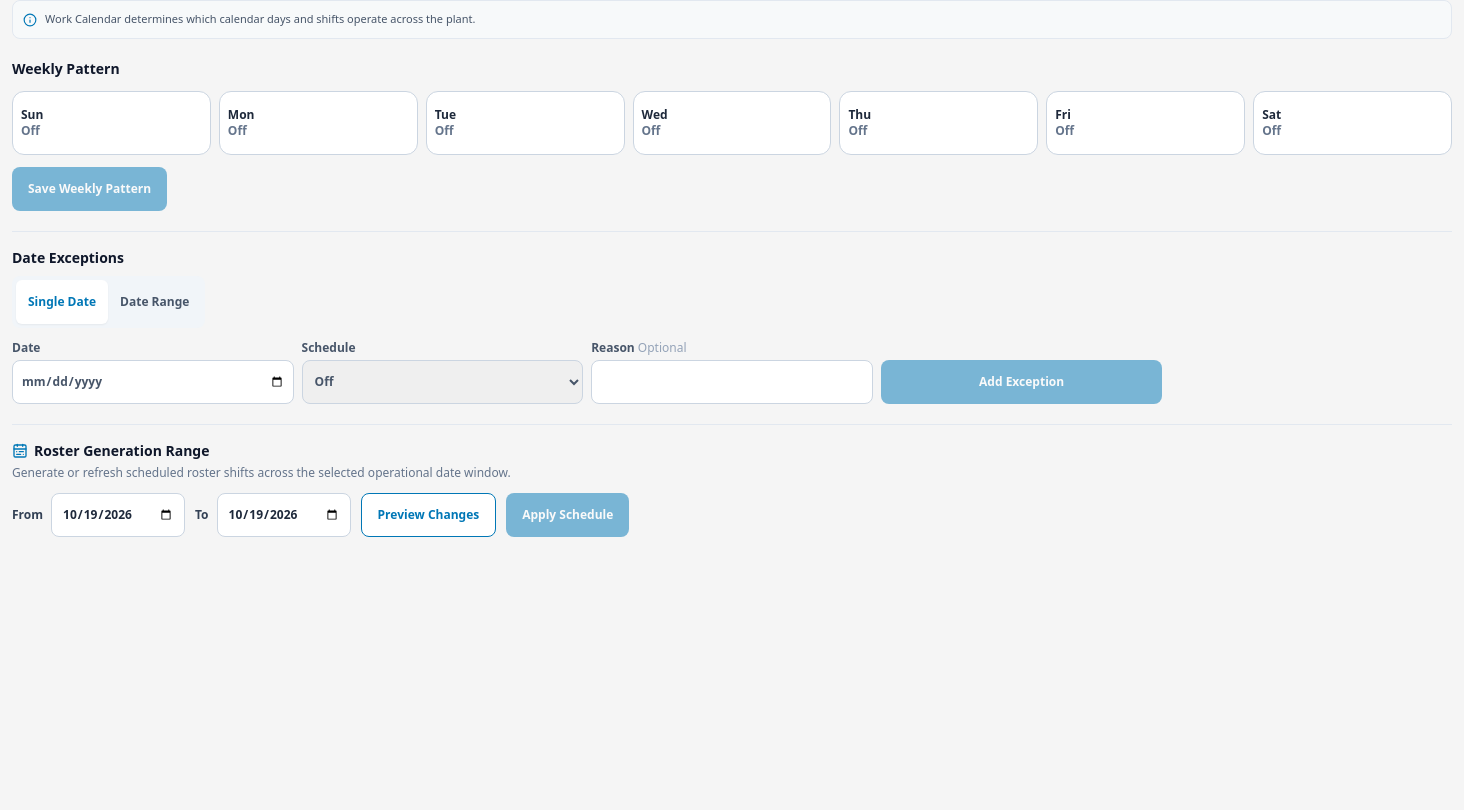
ScheduleCard › invalidates preview when the generation range changes
Click the button "Preview Changes" at (428, 514), box x1=361 y1=492 x2=496 y2=536
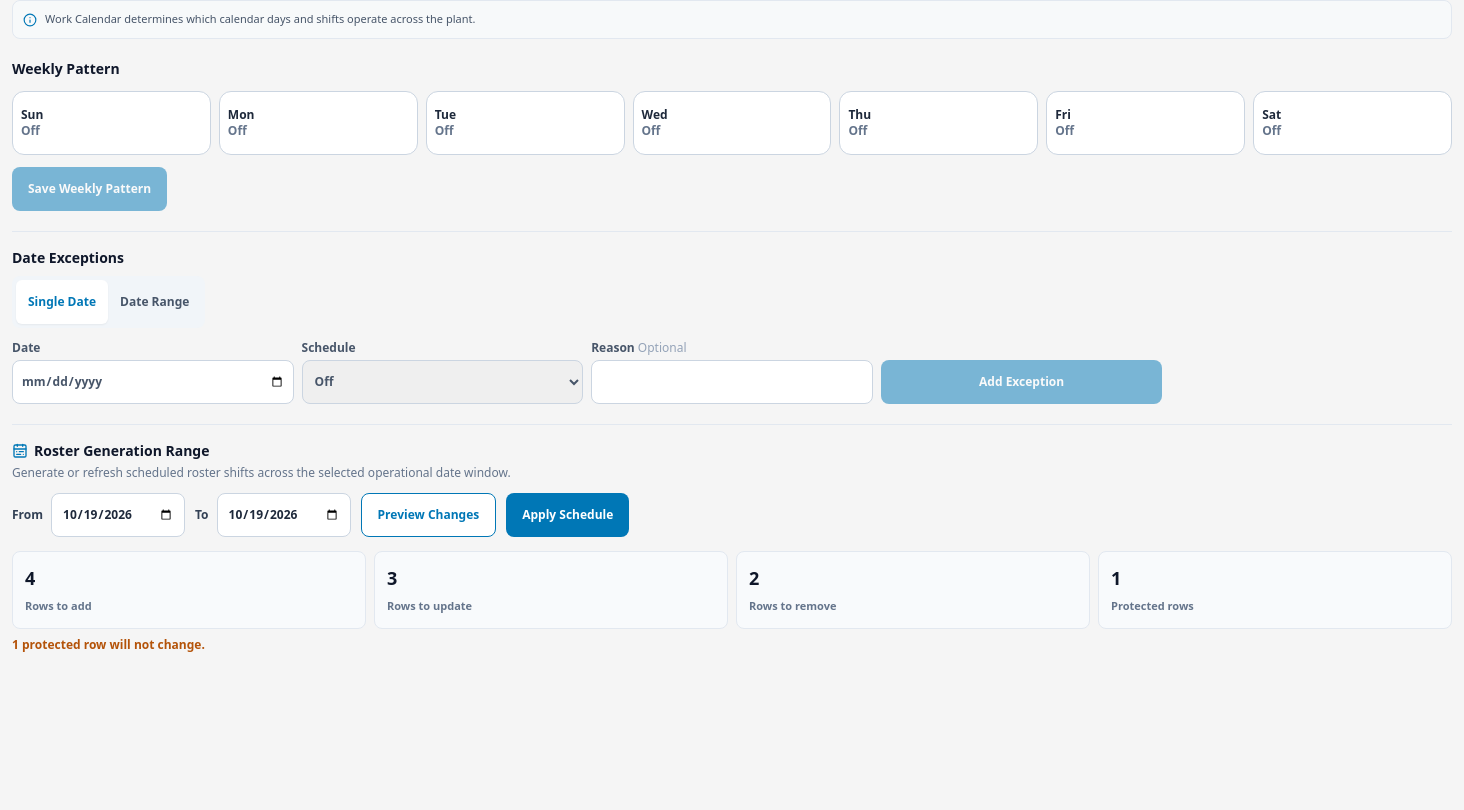
Result: the button "Apply Schedule" is enabled at x1=506 y1=492 x2=629 y2=536
Type "2030-01-01" into the date field labelled "To" at (284, 514), box x1=217 y1=492 x2=351 y2=536
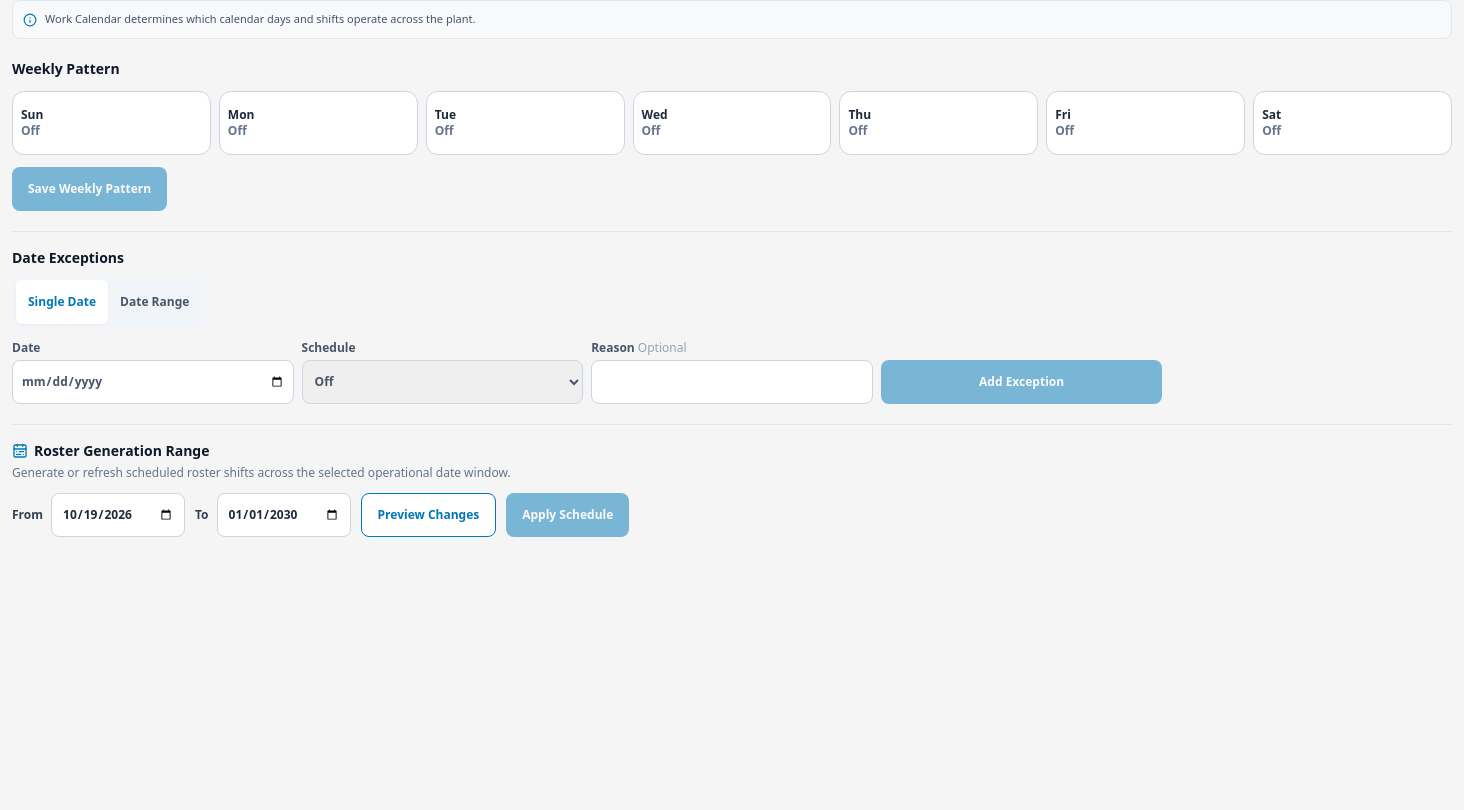
Result: the button "Apply Schedule" is disabled at x1=506 y1=492 x2=629 y2=536
